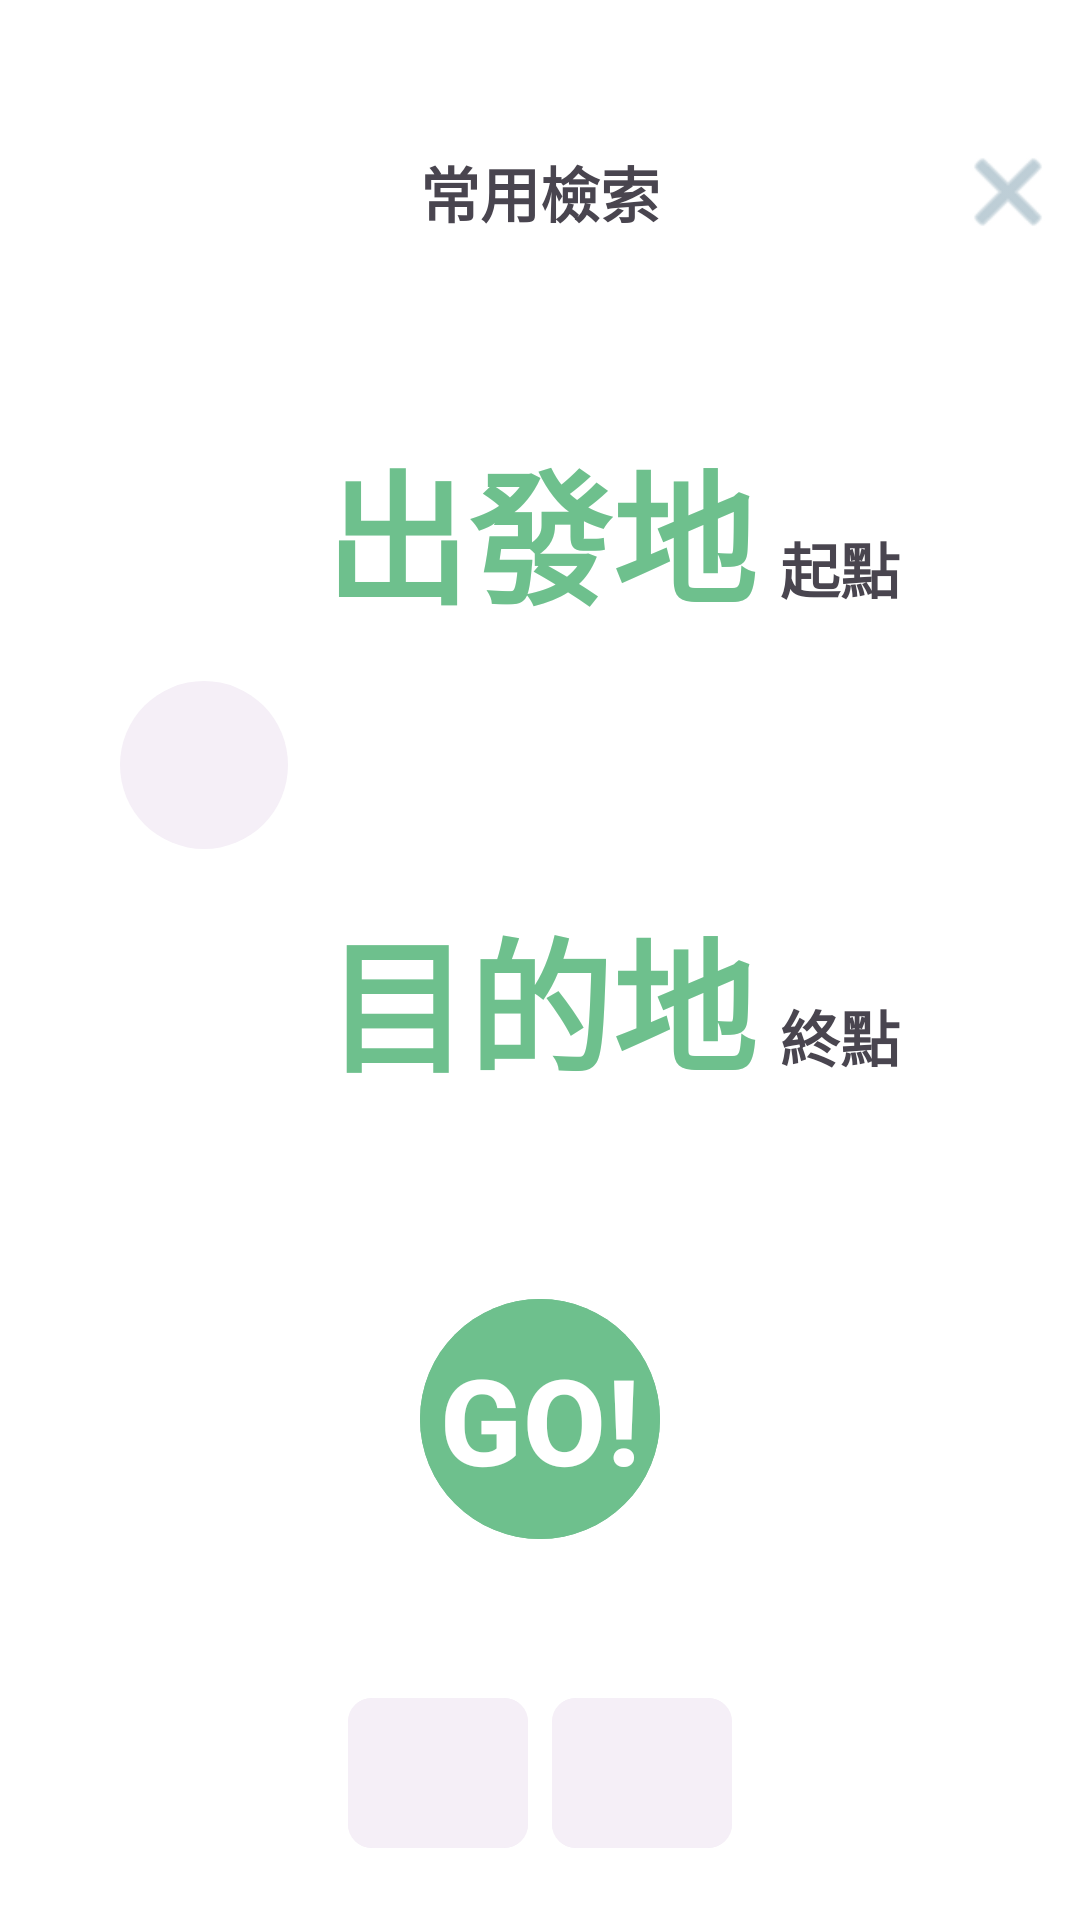

Named icons in this screenshot (1080×1920) and their centers, (x=x, y=y):
close clear cancel: (x=1008, y=192)
